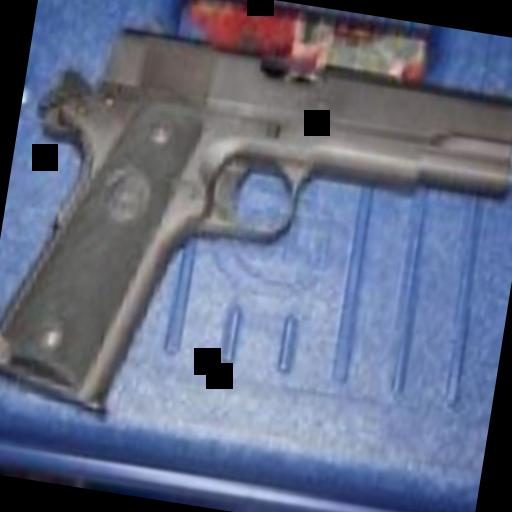Handgun: (0, 13, 512, 486)
